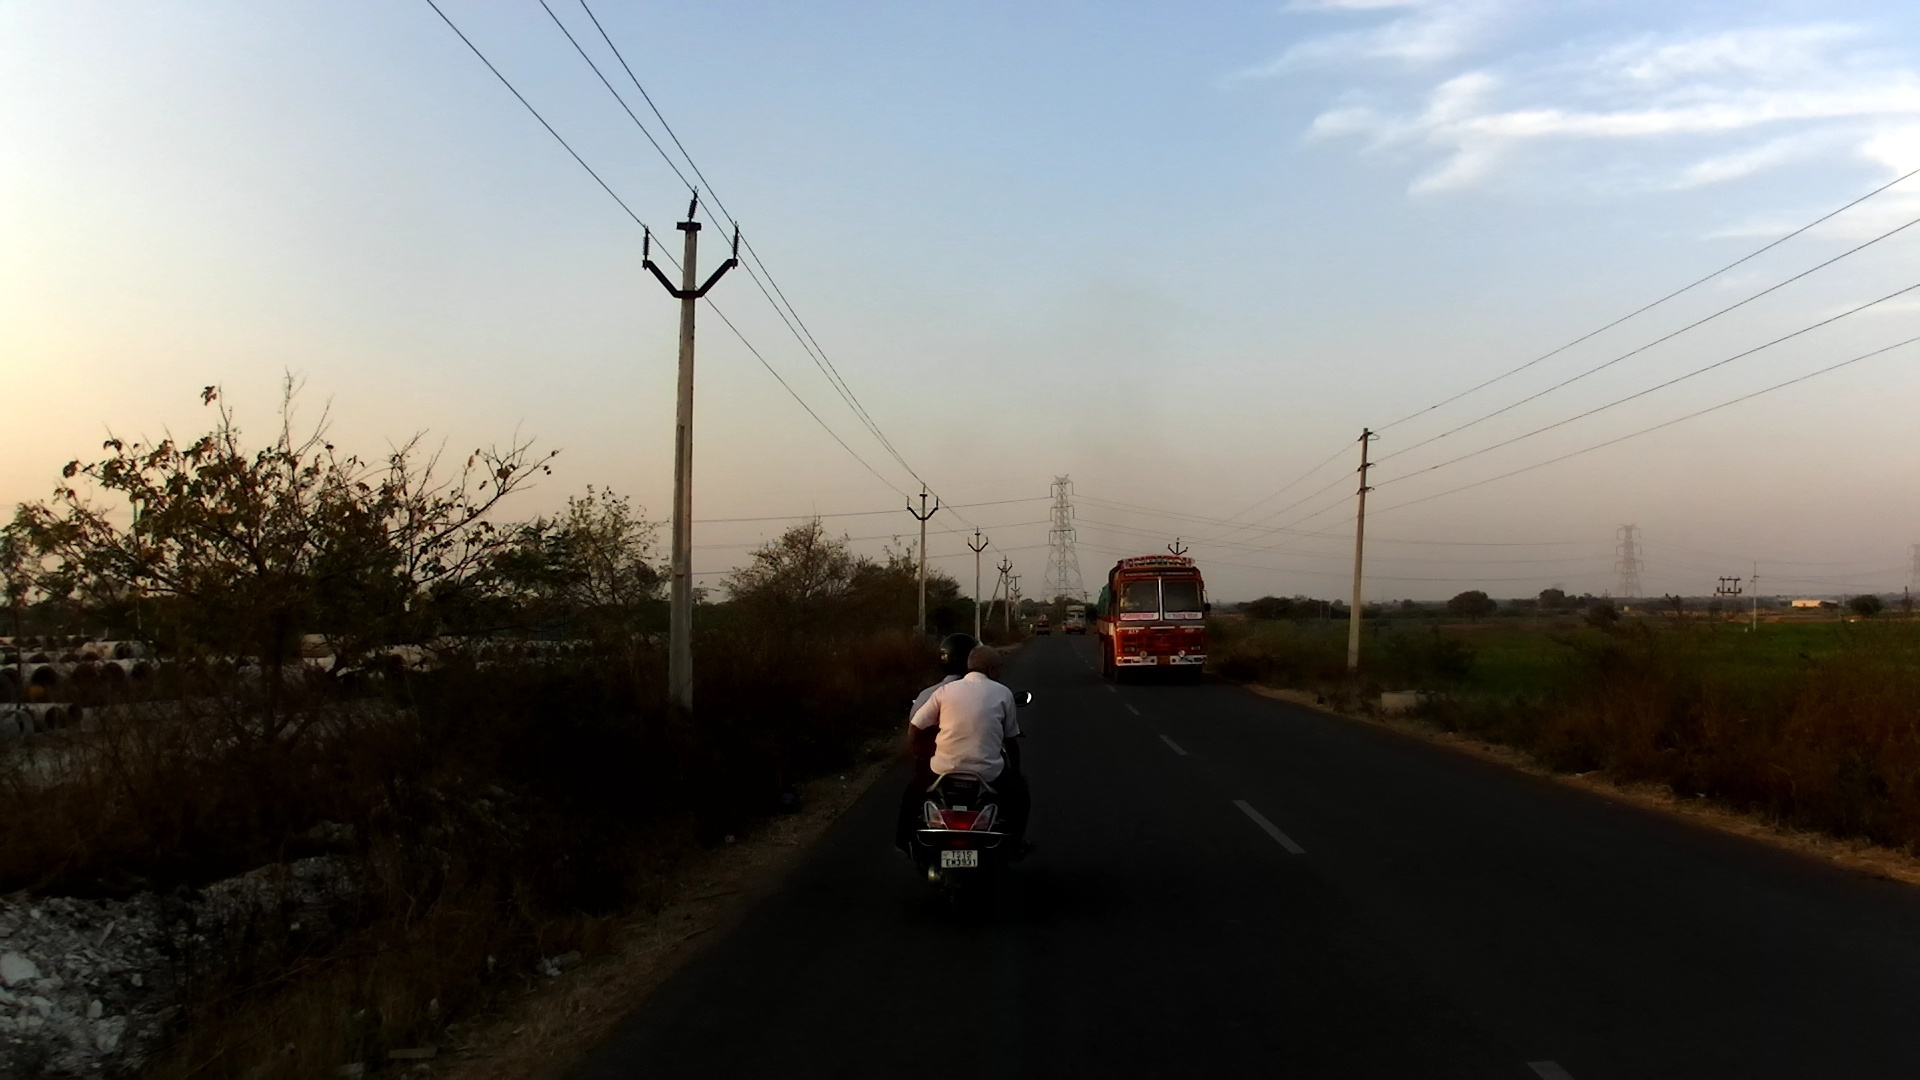car: (1036, 615, 1054, 637), (1060, 619, 1070, 630)
motorcycle: (910, 683, 1039, 916)
person: (1027, 621, 1033, 633)
rider: (896, 643, 1028, 871), (916, 629, 1006, 817)
truck: (1094, 553, 1213, 688), (1064, 601, 1087, 638)
